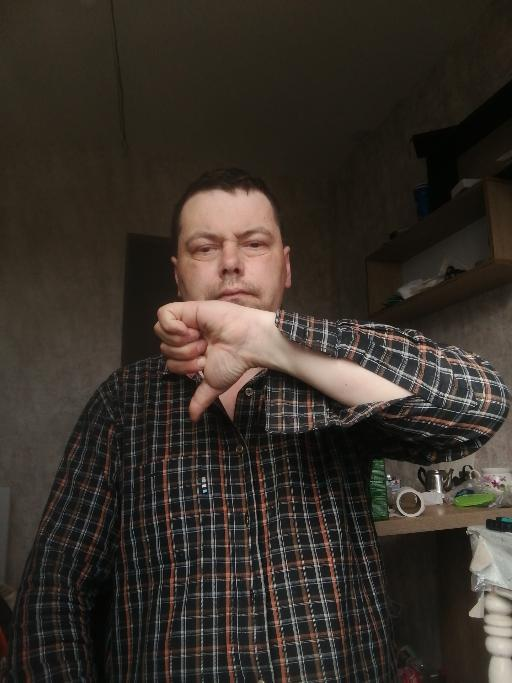dislike: (152, 298, 250, 418)
